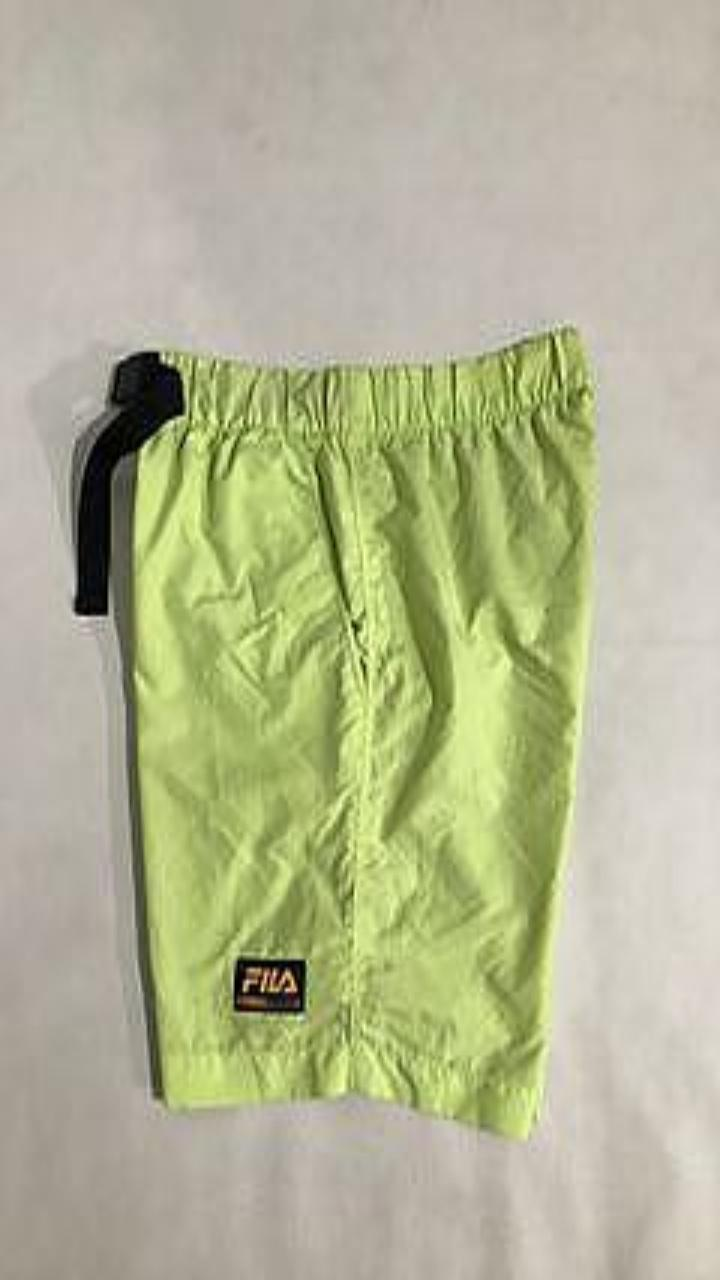Shorts: (132, 326, 594, 1137)
